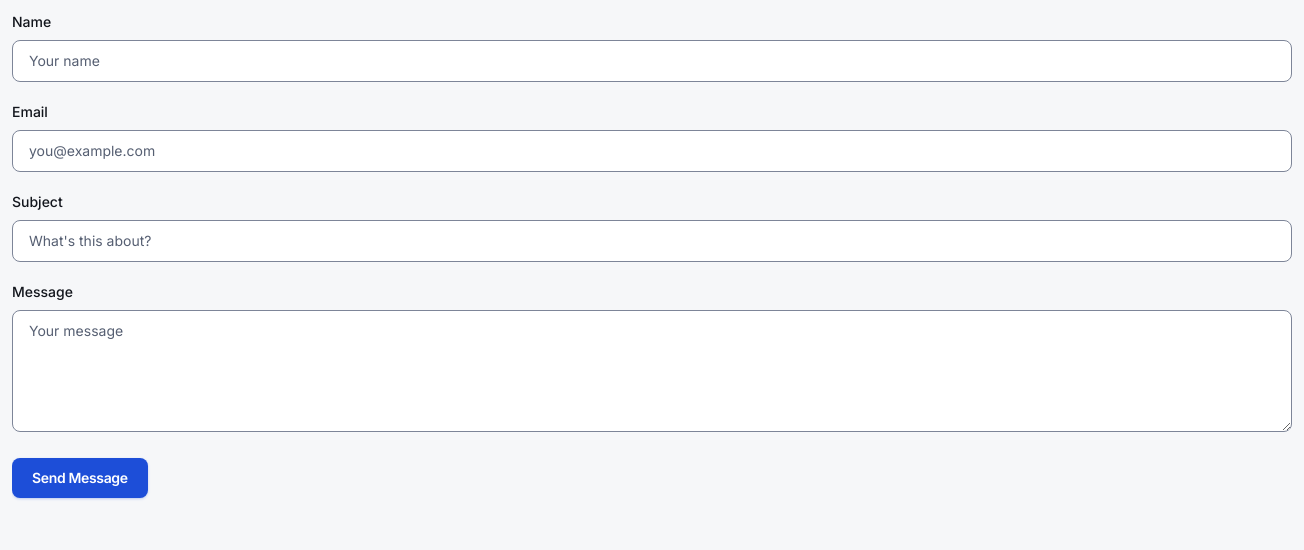
ContactForm › on a fully valid submission, hands off to the visitor's email client and confirms it
Type "Jordan Rivera" into the field labelled "Name" at {"x": 652, "y": 61}, box [12,40,1292,82]
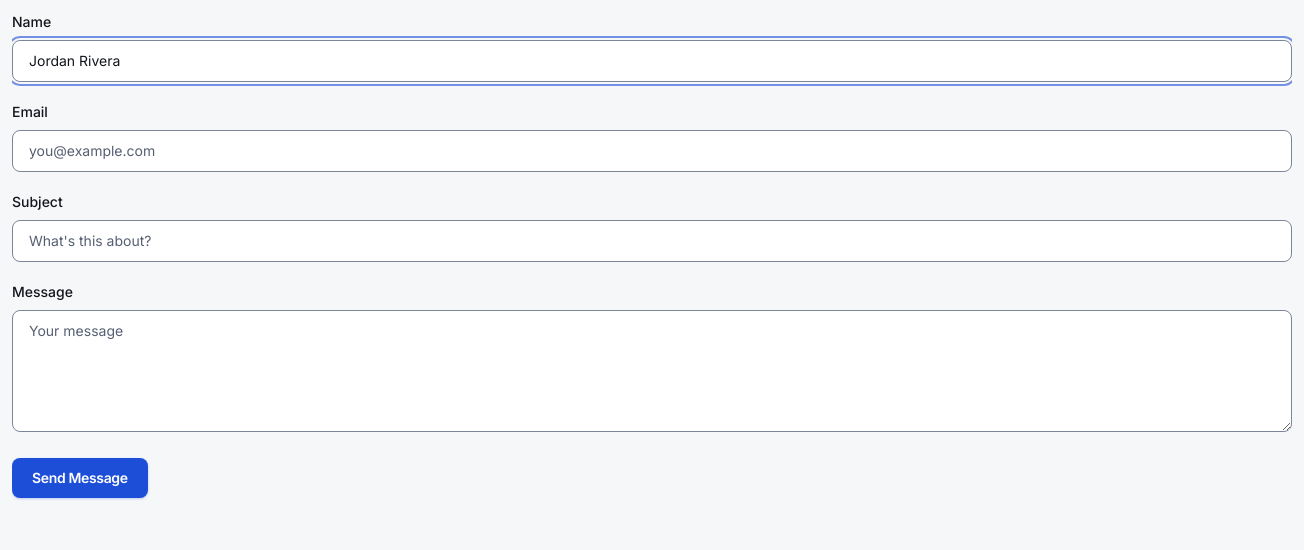
Type "jordan@example.com" into the field labelled "Email" at {"x": 652, "y": 151}, box [12,130,1292,172]
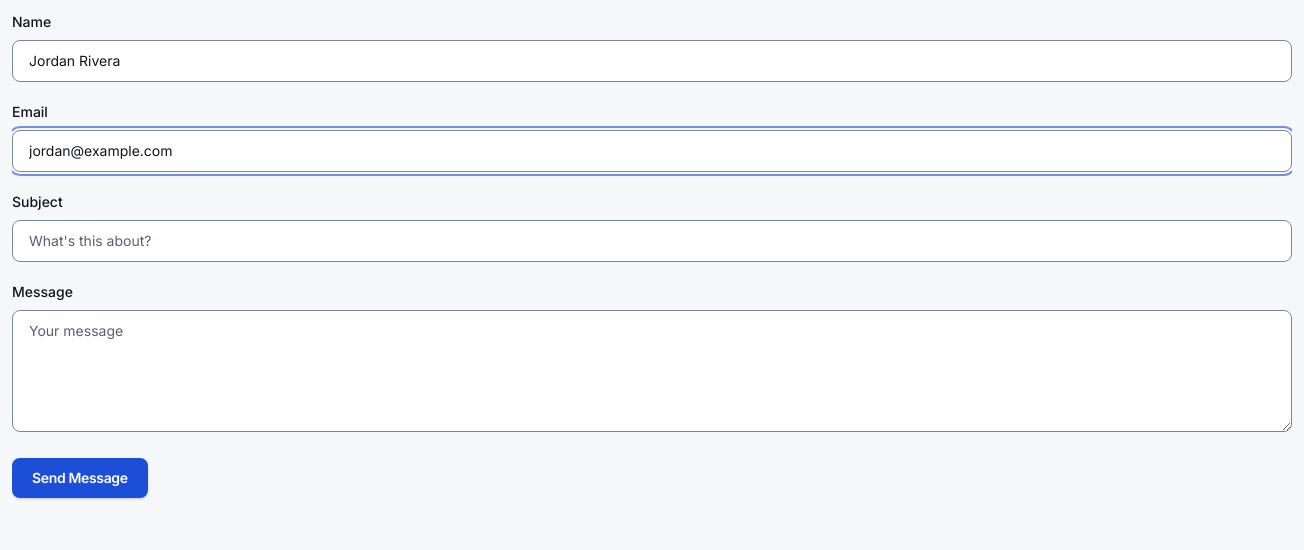
Type "SOC Analyst role" into the field labelled "Subject" at {"x": 652, "y": 241}, box [12,220,1292,262]
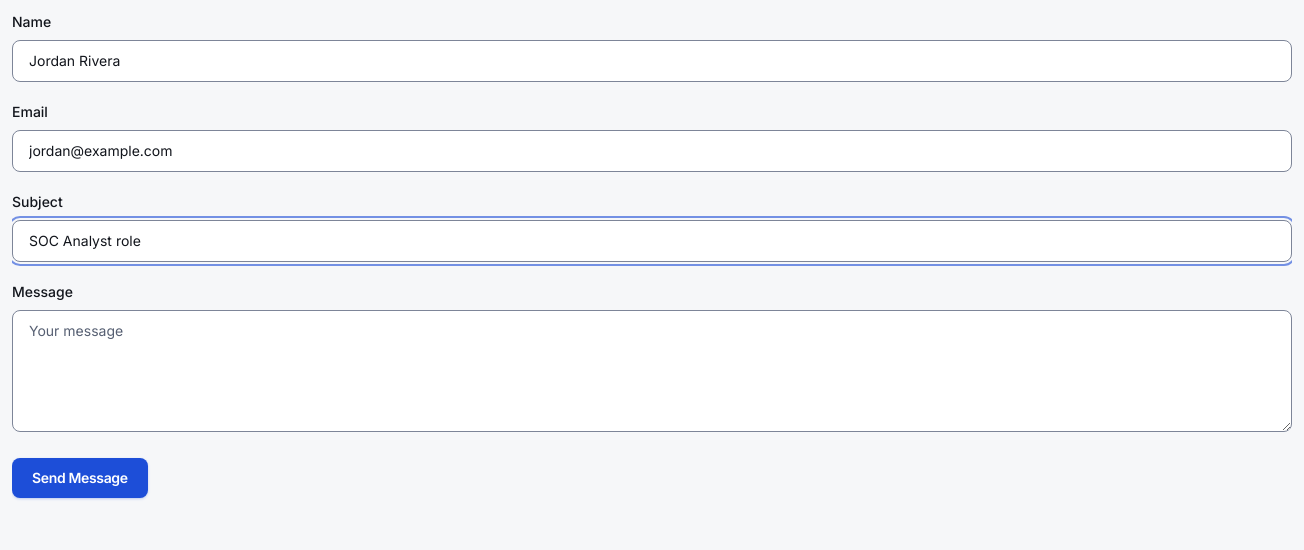
Type "I'd love to chat about a SOC analyst opening on our team." into the text box labelled "Message" at {"x": 652, "y": 371}, box [12,310,1292,432]
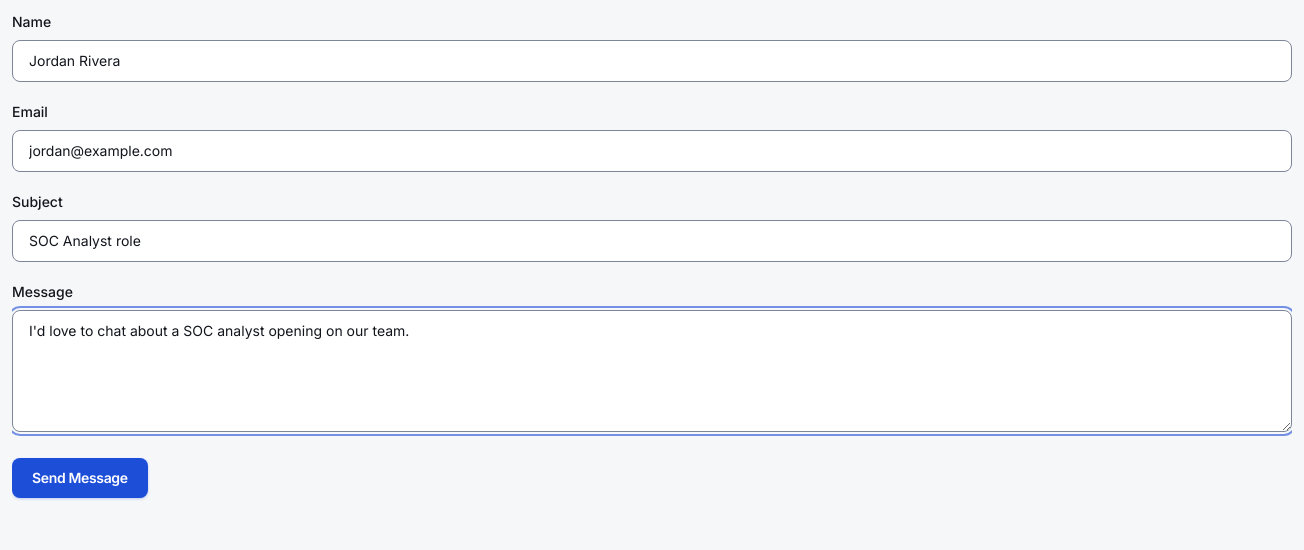
Click the button "Send Message" at {"x": 80, "y": 478}, box [12,458,148,498]
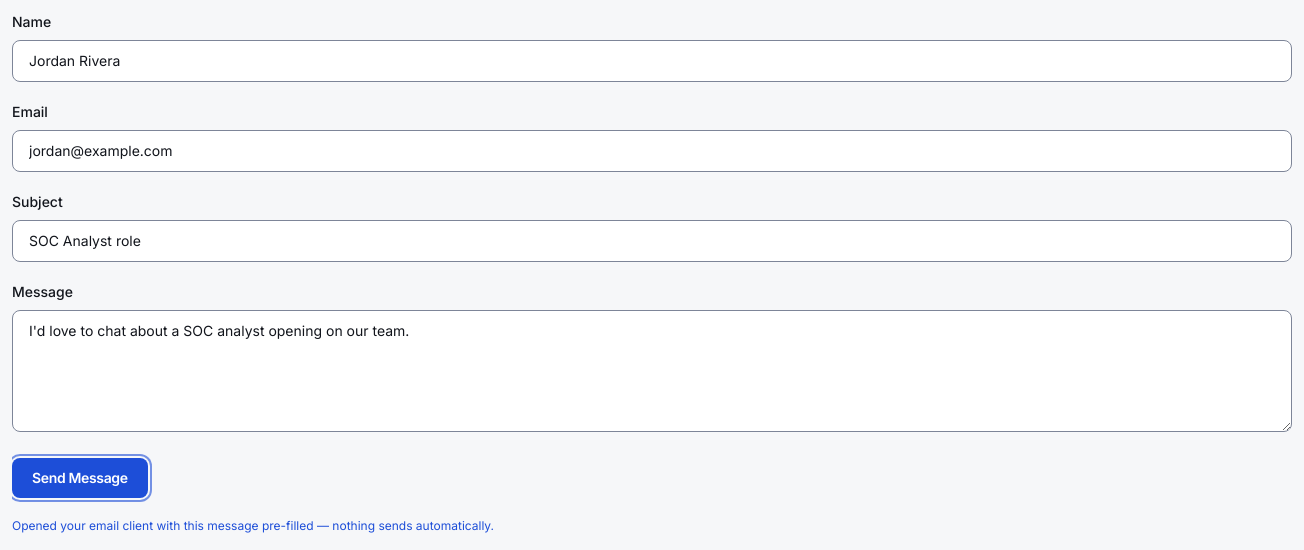
Check: the message shows "Opened your email client", box [12,518,494,533]
